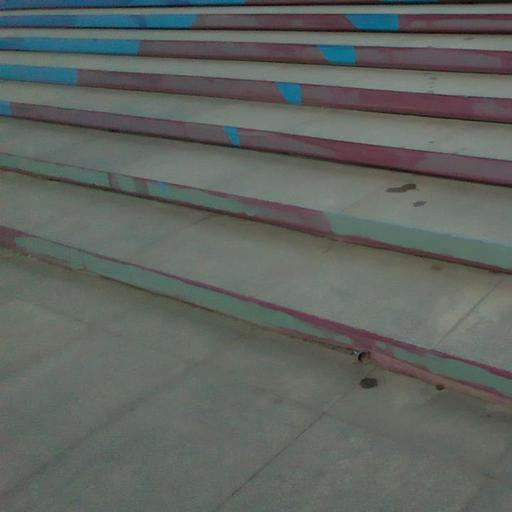stairs: (0, 1, 511, 400)
